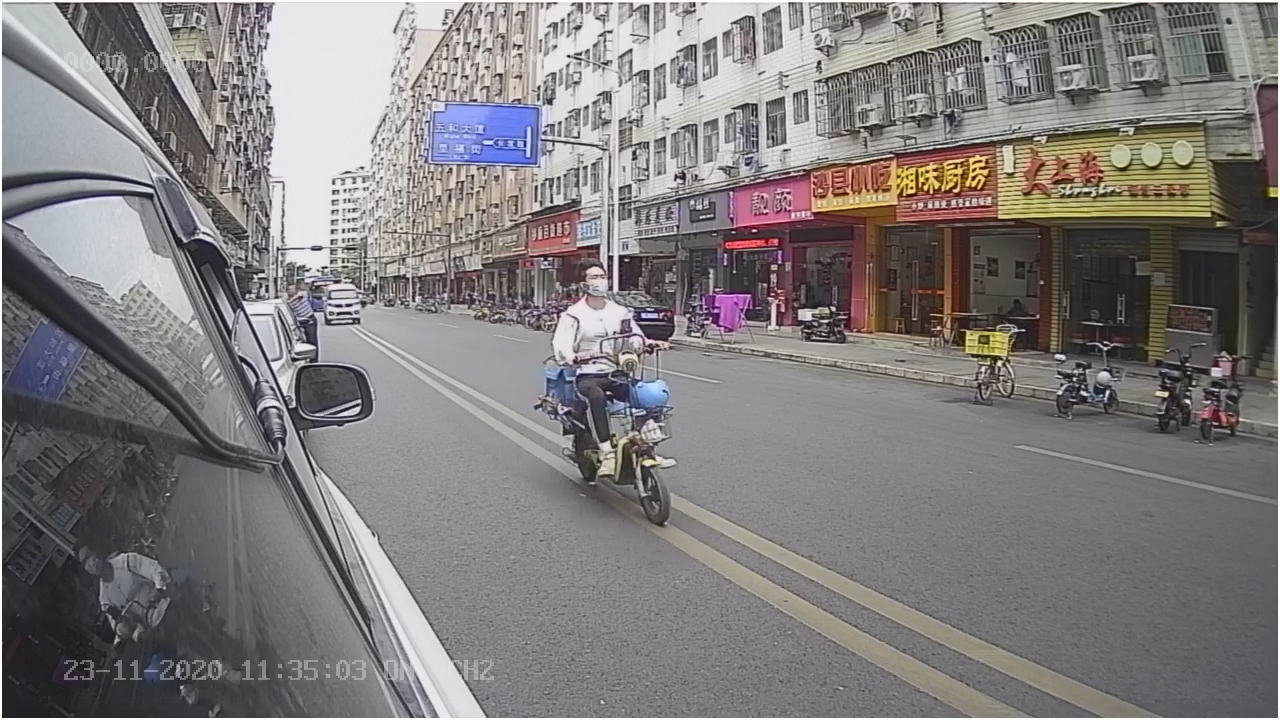person: (544, 257, 649, 364)
